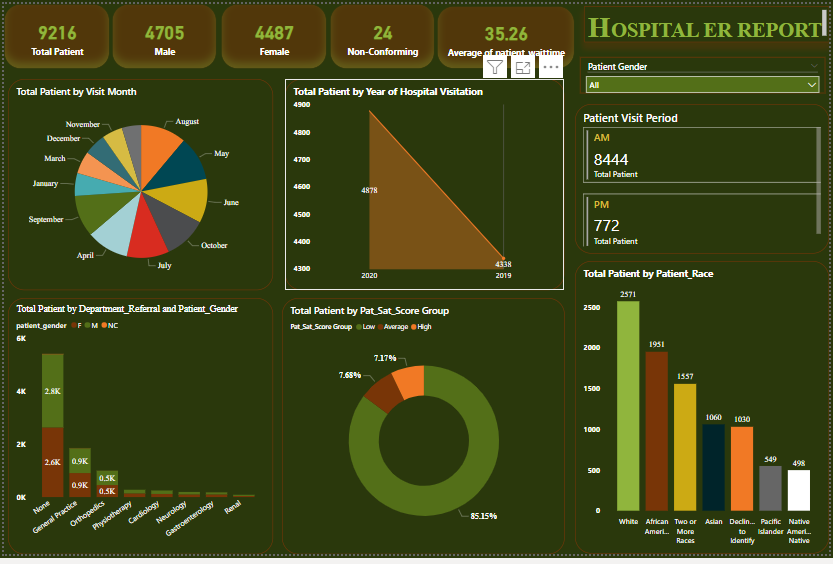

The page's visual inventory and layout, read from the dashboard file:
{"tool":"powerbi","page":{"name":"Page 1","canvas":[1500,1000],"ordinal":0},"visuals":[{"type":"card","fields":{"Values":["Avg(Hospital ER.patient_waittime)"]},"box":[788,4,250,114],"z":0},{"type":"donutChart","fields":{"Y":["DAX.Total Patient"],"Category":["Hospital ER.Pat_Sat_Score Group"]},"box":[506,534,514,466],"z":1000},{"type":"textbox","box":[1054,4,446,66],"z":2000},{"type":"card","fields":{"Values":["DAX.Male Gender"]},"box":[196,0,190,118],"z":3000},{"type":"card","fields":{"Values":["DAX.Total Patient"]},"box":[0,0,192,118],"z":4000},{"type":"card","fields":{"Values":["DAX.Female Gender"]},"box":[394,0,192,118],"z":5000},{"type":"clusteredColumnChart","title":"Total Patient by Patient_Race","fields":{"Category":["Hospital ER.patient_race"],"Y":["DAX.Total Patient"]},"box":[1038,468,462,532],"z":6000},{"type":"stackedAreaChart","fields":{"Category":["Hospital ER.Year of Hospital Visitation"],"Y":["DAX.Total Patient"]},"box":[510,136,508,384],"z":7000},{"type":"columnChart","title":"Total Patient by Department_Referral and Patient_Gender","fields":{"Y":["DAX.Total Patient"],"Category":["Hospital ER.department_referral"],"Series":["Hospital ER.patient_gender"]},"box":[8,534,482,466],"z":8000},{"type":"card","fields":{"Values":["DAX.Non-Conforming"]},"box":[592,0,190,118],"z":9000},{"type":"pieChart","fields":{"Y":["DAX.Total Patient"],"Category":["Hospital ER.Visit Month"]},"box":[8,136,482,384],"z":10000},{"type":"multiRowCard","title":"Patient Visit Period","fields":{"Values":["DAX.Total Patient","Hospital ER.Visit Period"]},"box":[1038,182,462,272],"z":11000},{"type":"slicer","fields":{"Values":["Hospital ER.patient_gender"]},"box":[1048,96,446,66],"z":12000}]}

Visuals, with their boxes in screenshot pixels (x1, y1, x2, y2), scaled from the page's 1500x1000 canvas onto the 833x564 screenshot:
card - Avg(Hospital ER.patient_waittime): box(438, 2, 576, 67)
donutChart - DAX.Total Patient x Hospital ER.Pat_Sat_Score Group: box(281, 301, 566, 563)
textbox: box(585, 2, 832, 39)
card - DAX.Male Gender: box(109, 0, 214, 67)
card - DAX.Total Patient: box(0, 0, 107, 67)
card - DAX.Female Gender: box(219, 0, 325, 67)
"Total Patient by Patient_Race" clusteredColumnChart: box(576, 264, 832, 563)
stackedAreaChart - Hospital ER.Year of Hospital Visitation x DAX.Total Patient: box(283, 77, 565, 293)
"Total Patient by Department_Referral and Patient_Gender" columnChart: box(4, 301, 272, 563)
card - DAX.Non-Conforming: box(329, 0, 434, 67)
pieChart - DAX.Total Patient x Hospital ER.Visit Month: box(4, 77, 272, 293)
"Patient Visit Period" multiRowCard: box(576, 103, 832, 256)
slicer - Hospital ER.patient_gender: box(582, 54, 830, 91)
